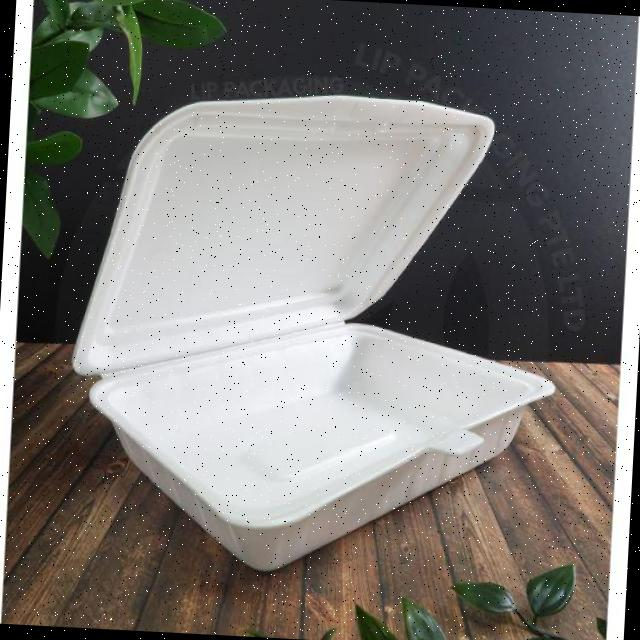styrofoam: (59, 79, 572, 587)
